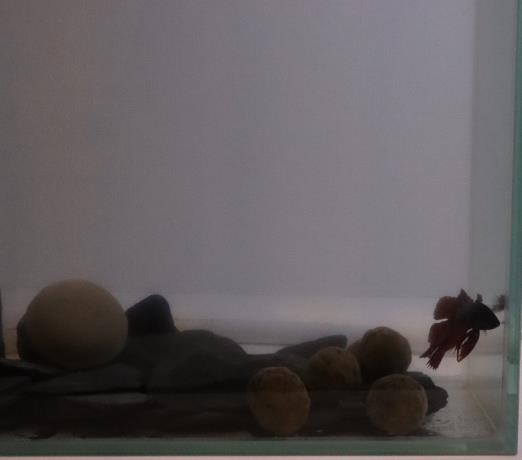fish: (423, 283, 501, 378)
